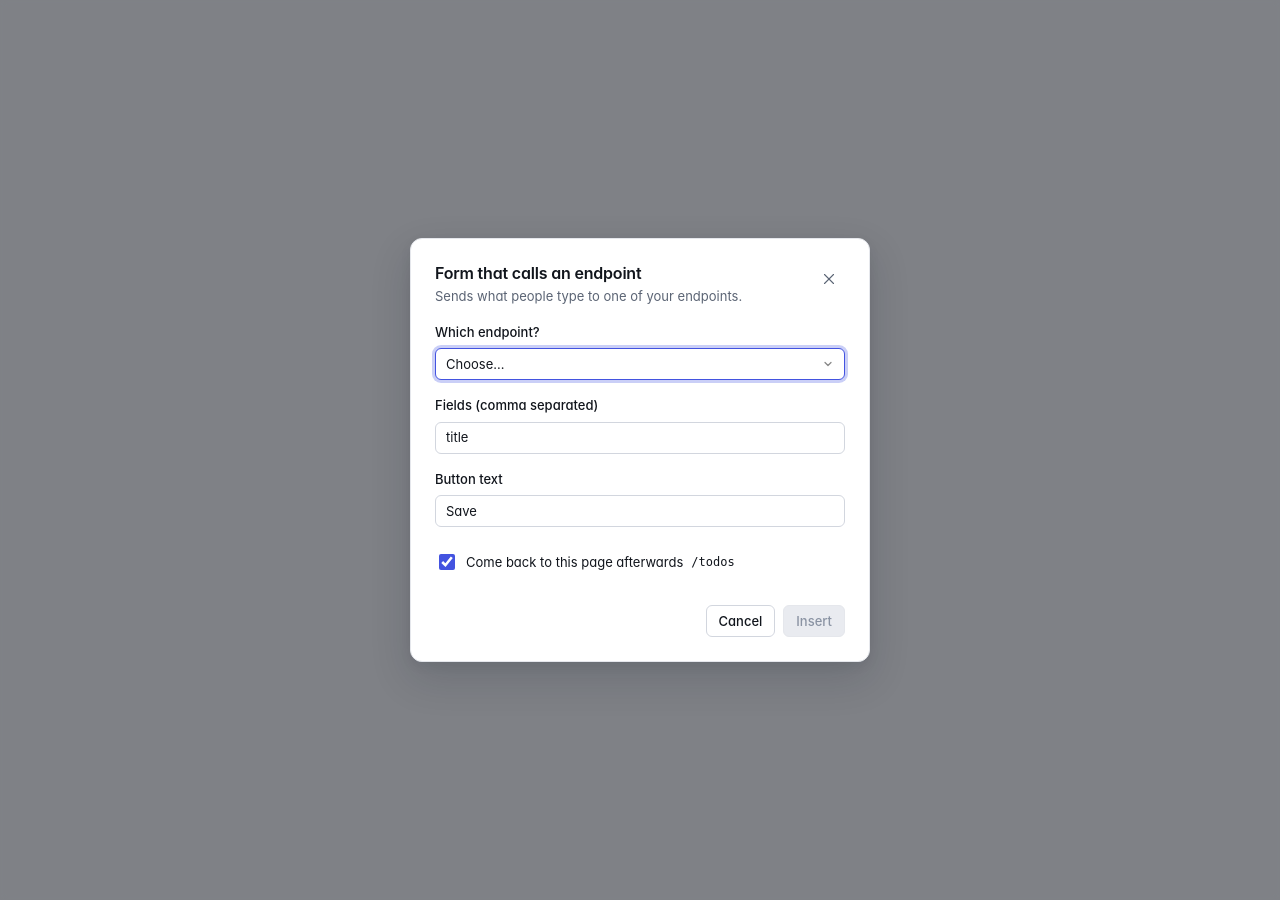
Test: Insert a form › explains that browsers only send forms as POST
Select "DELETE /todos/{id} · no page" in the dropdown at (640, 364), box [435,348,845,380]
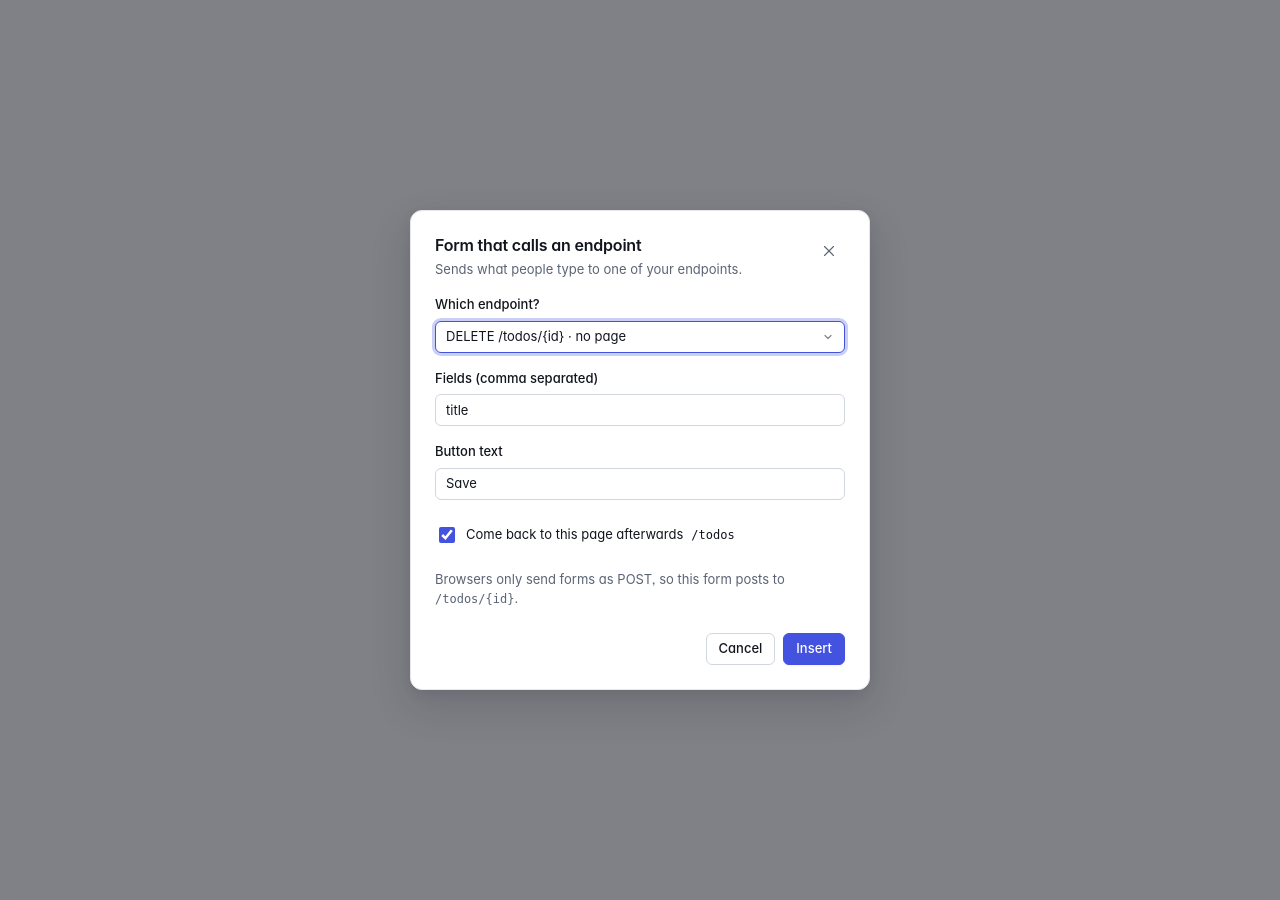
Expected: the text "only send forms as POST" is shown, [435,571,785,587]
